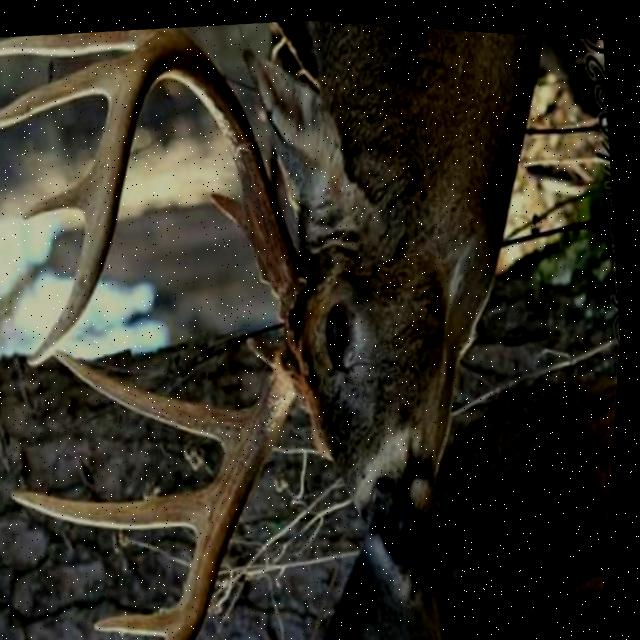L-F: (29, 26, 311, 366)
L-G1: (210, 189, 252, 237)
L-G3: (0, 26, 162, 55)
L-G4: (0, 55, 125, 129)
L-G5: (21, 173, 91, 221)
R-G1: (249, 333, 289, 367)
R-G2: (59, 348, 253, 441)
R-G3: (14, 486, 210, 529)
R-G4: (99, 604, 182, 634)
